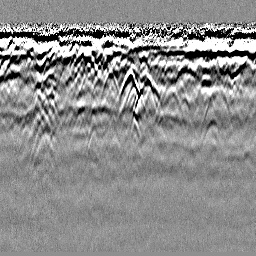cavity: (118, 65, 140, 99)
